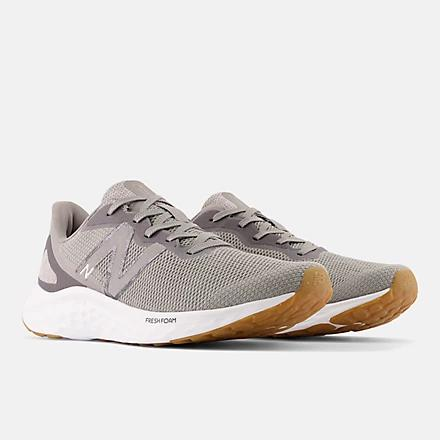NB logo: (75, 216, 173, 306)
